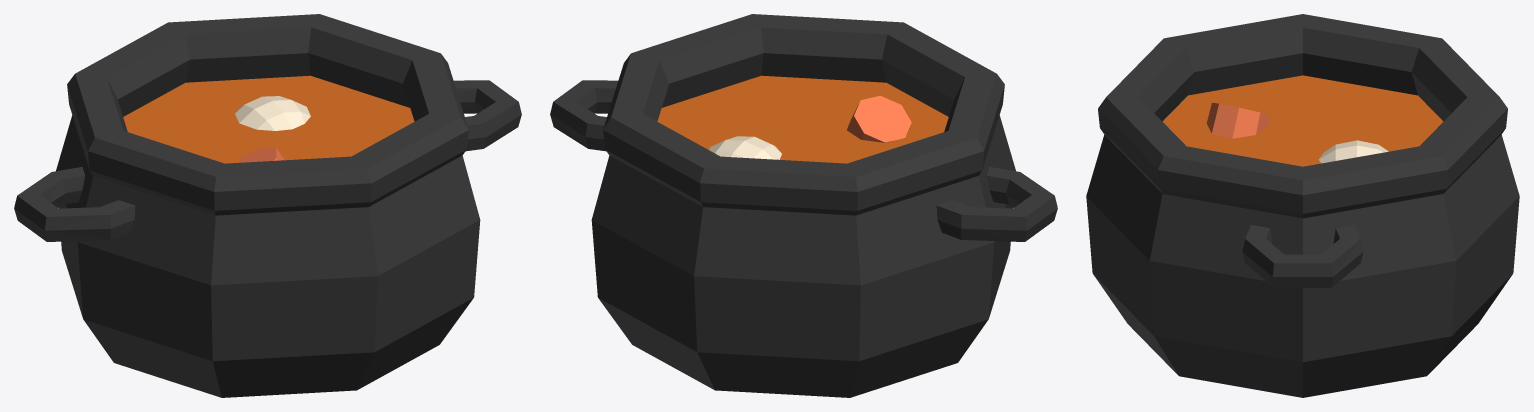
The model's file is Tribal_Plains_Cast_Iron_Cook_Pot_01.fbx.
The picture shows the model from 3 angles, left to right: view 1: azimuth 30°, elevation 25°; view 2: azimuth 150°, elevation 25°; view 3: azimuth 270°, elevation 25°; orthographic projection.
Visible parts, largest first — view 1: Tribal_Plains_Cast_Iron_Cook_Pot_01; view 2: Tribal_Plains_Cast_Iron_Cook_Pot_01; view 3: Tribal_Plains_Cast_Iron_Cook_Pot_01.
Boxes of the visible parts, left/top/right/bottom form: Tribal_Plains_Cast_Iron_Cook_Pot_01: left=14, top=14, right=521, bottom=397; Tribal_Plains_Cast_Iron_Cook_Pot_01: left=550, top=14, right=1057, bottom=397; Tribal_Plains_Cast_Iron_Cook_Pot_01: left=1086, top=14, right=1519, bottom=397.
Bounding box in the file's own units: 1.32 × 0.6064 × 1.05.
